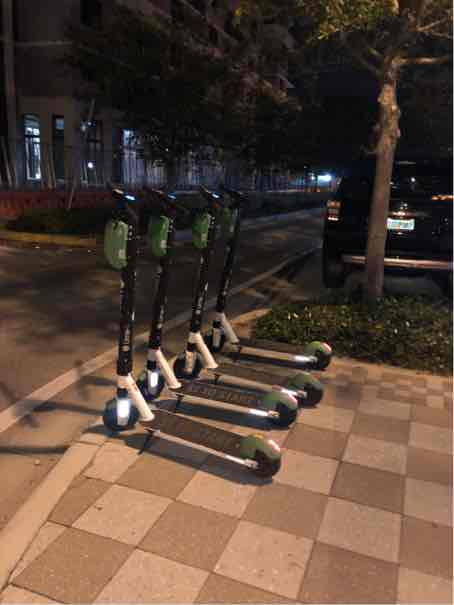too close: (79, 385, 170, 457)
